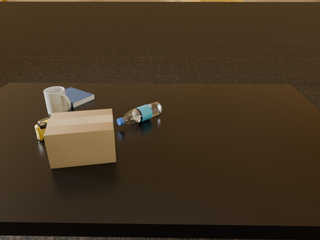book: (65, 87, 94, 108)
bottle: (117, 102, 162, 125)
box: (43, 109, 116, 169)
cup: (44, 87, 71, 114)
toy_car: (35, 118, 49, 141)
